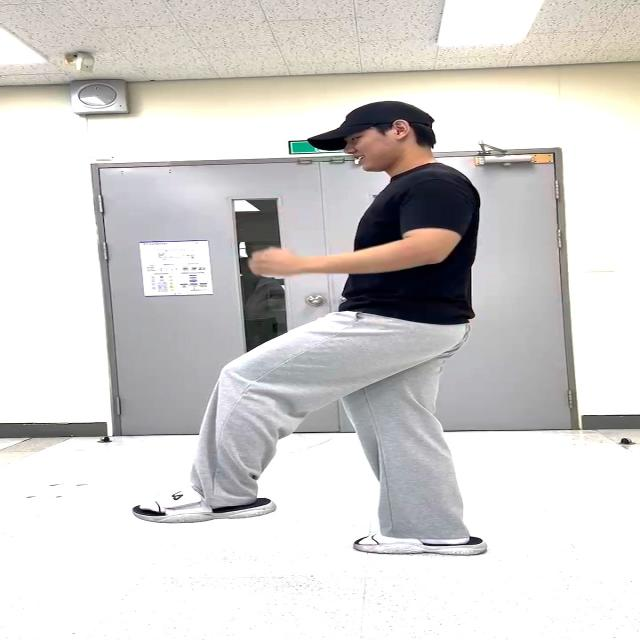leg: (126, 300, 339, 531)
